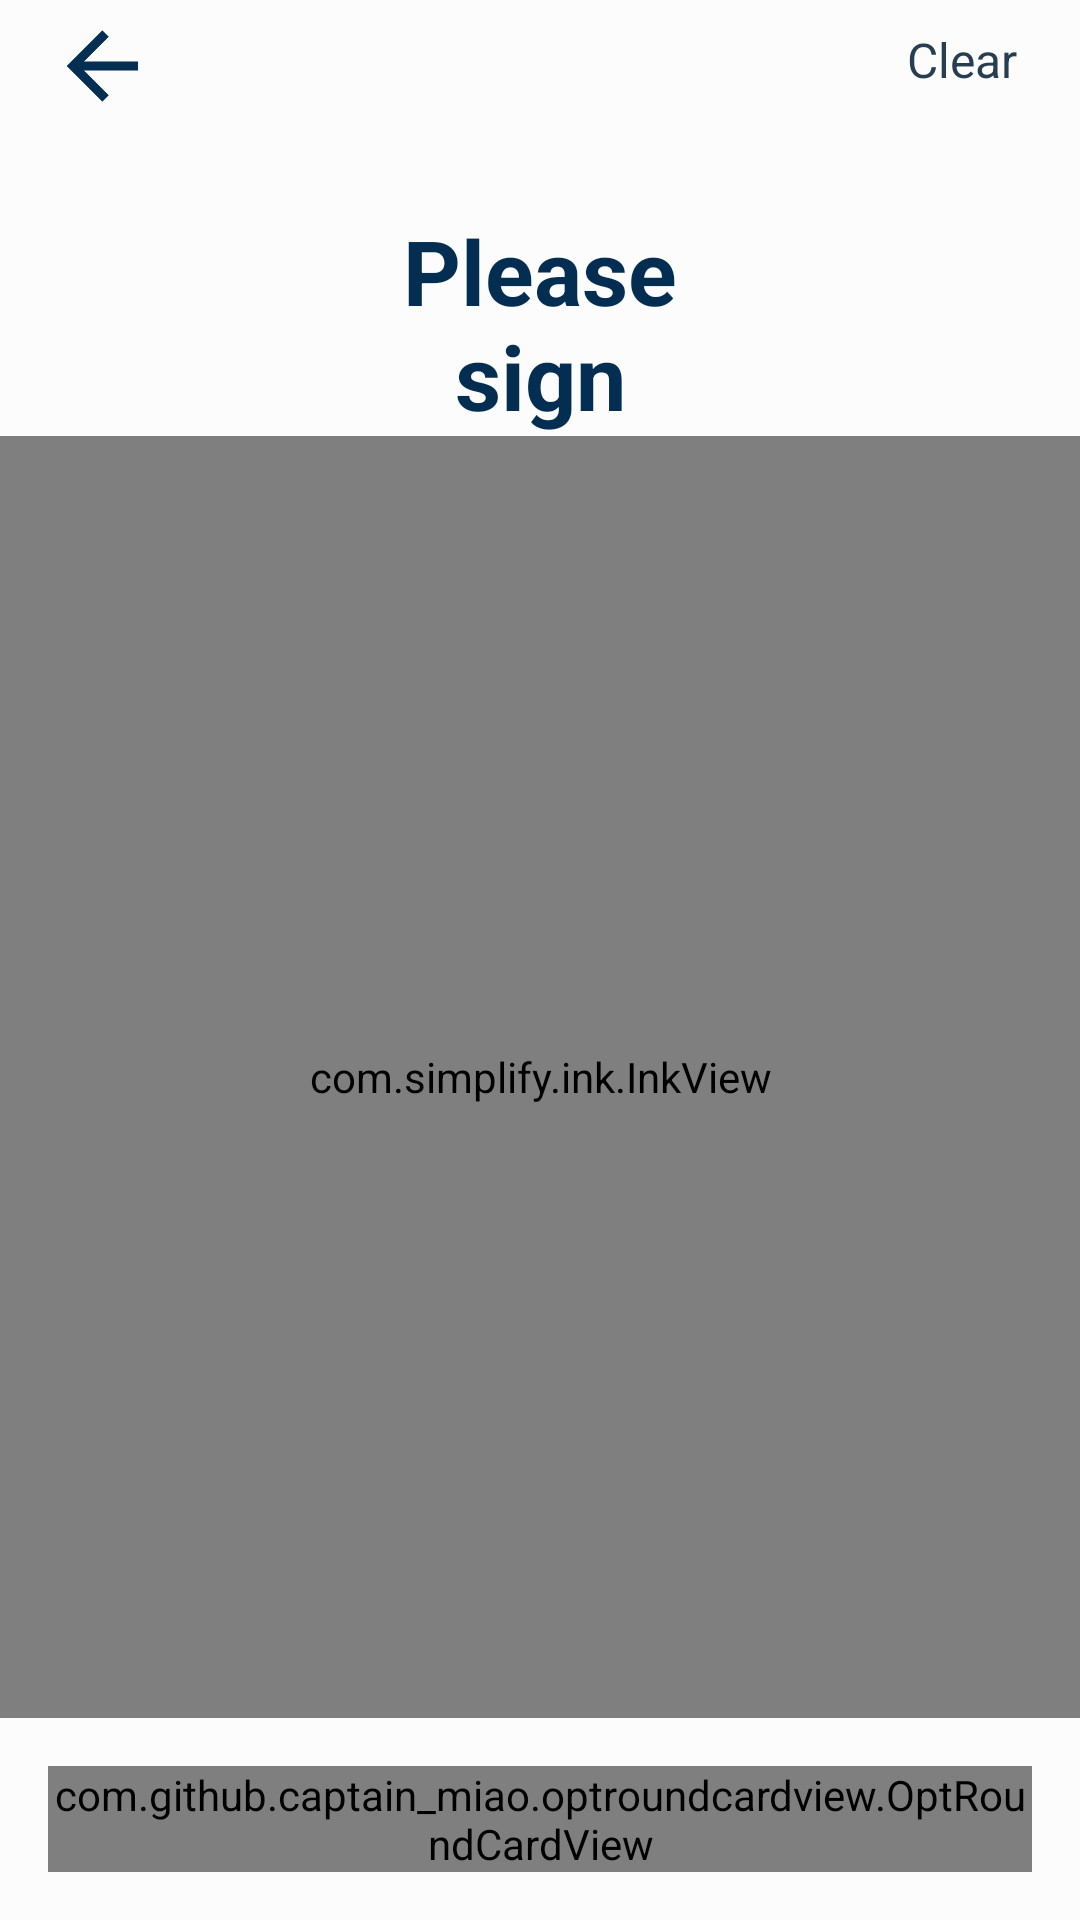

Where to tap for icons on this 1080 x 1920 app screen, as point (x, y):
back: point (102, 66)
